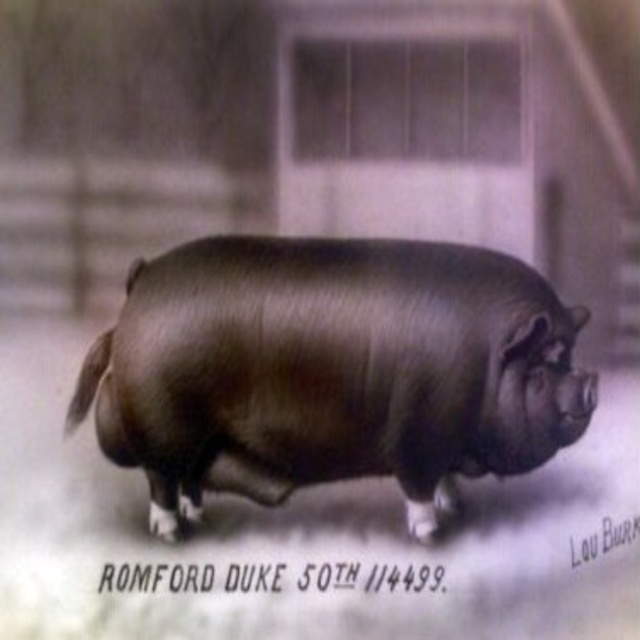Pig: (63, 234, 599, 546)
